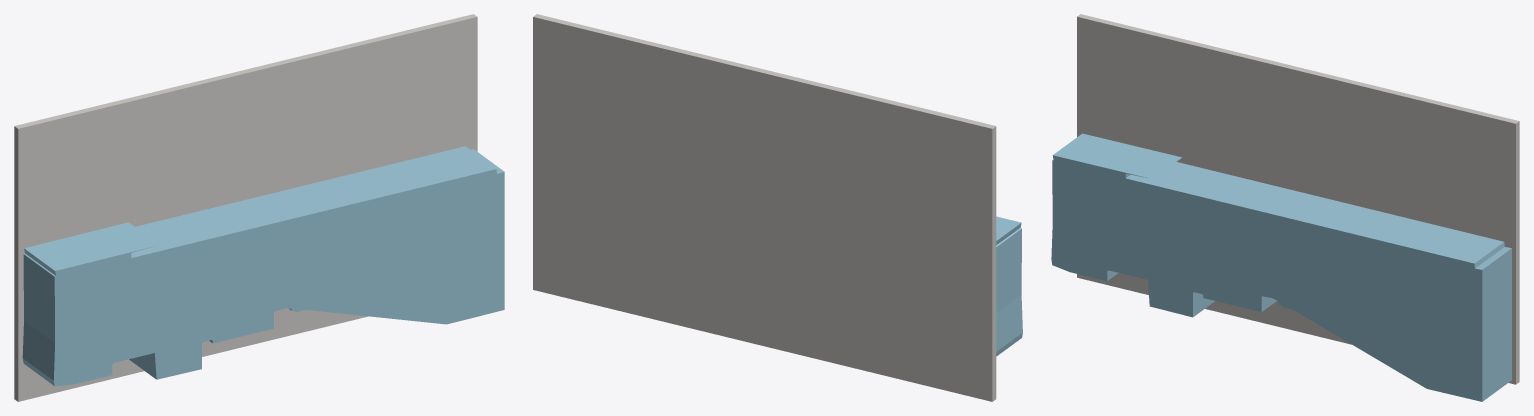
The picture shows the model from 3 angles, left to right: view 1: azimuth 30°, elevation 25°; view 2: azimuth 150°, elevation 25°; view 3: azimuth 330°, elevation 25°; orthographic projection. The views are drawn at different scales.
Visible parts, largest first — view 1: world; view 2: world; view 3: world.
Part boxes in pixels (box(x1,y1,x2,y2)): world: box(14, 14, 504, 401); world: box(533, 14, 1022, 401); world: box(1051, 14, 1519, 401).
Bounding box in the file's own units: 10.23 × 5.81 × 1.35.
